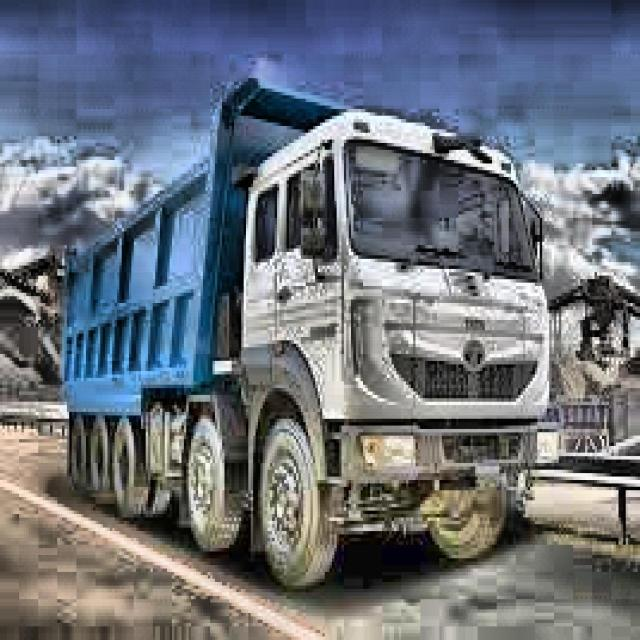dump_truck: (54, 69, 556, 591)
